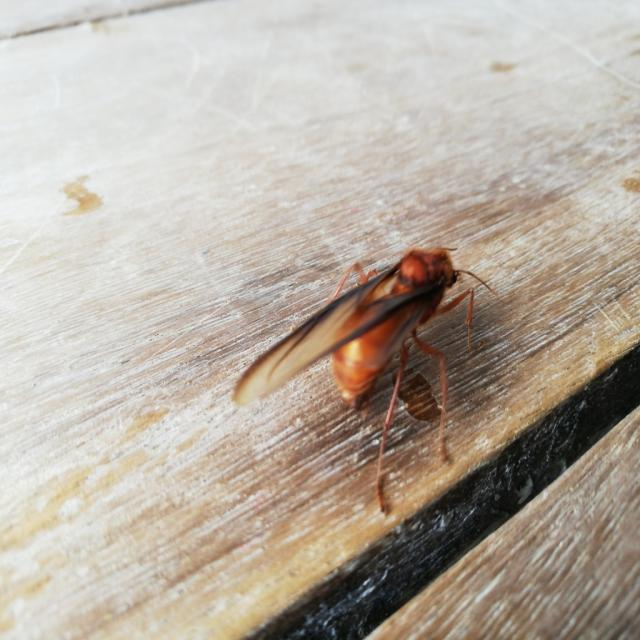Alive-Male-Alate: (231, 245, 501, 514)
